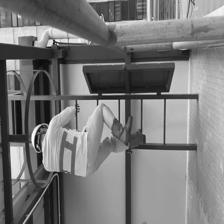Feet: (107, 102, 145, 158), (121, 129, 153, 156), (107, 108, 134, 139)
Hand: (48, 96, 87, 121)
Ladder: (20, 89, 188, 161)
